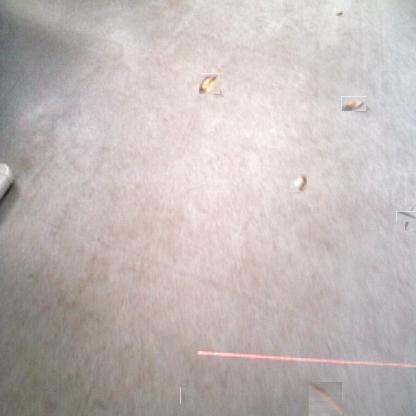dirty: (308, 382, 342, 416), (199, 74, 220, 94), (341, 96, 366, 111), (289, 174, 307, 192), (335, 8, 344, 16)
mark: (400, 206, 416, 226), (180, 386, 187, 404), (27, 274, 33, 282)
